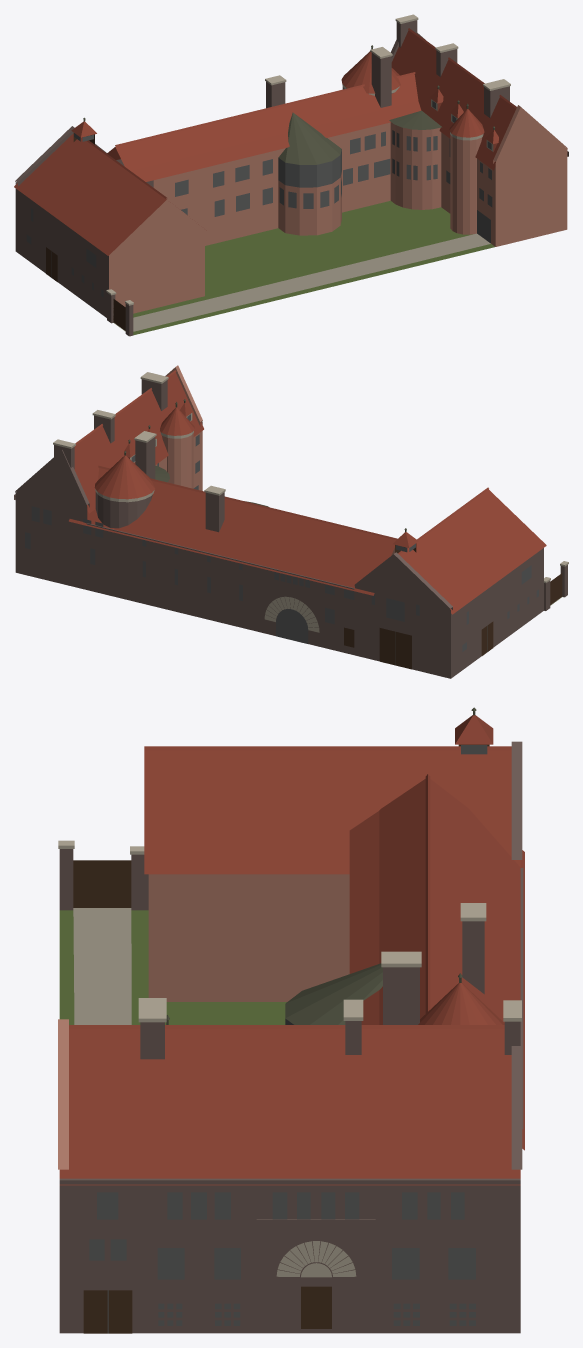
Rendered from glessner_house__as_built_1887.glb.
The picture shows the model from 3 angles, top to bottom: view 1: azimuth 30°, elevation 25°; view 2: azimuth 150°, elevation 25°; view 3: azimuth 270°, elevation 25°; orthographic projection. The views are drawn at different scales.
Visible parts, largest first — view 1: glessner_house__as_built_1887; view 2: glessner_house__as_built_1887; view 3: glessner_house__as_built_1887.
Part boxes in pixels (x1,y1,x2,y2): glessner_house__as_built_1887: (14, 14, 568, 336); glessner_house__as_built_1887: (14, 365, 568, 678); glessner_house__as_built_1887: (58, 707, 524, 1333).
Size of the model in its own units: 49.64 by 15.08 by 22.84.
